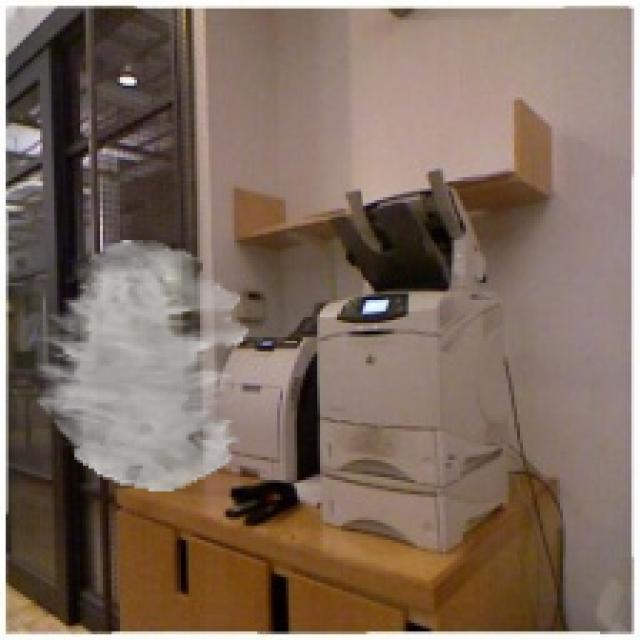Smoke: (34, 239, 249, 492)
